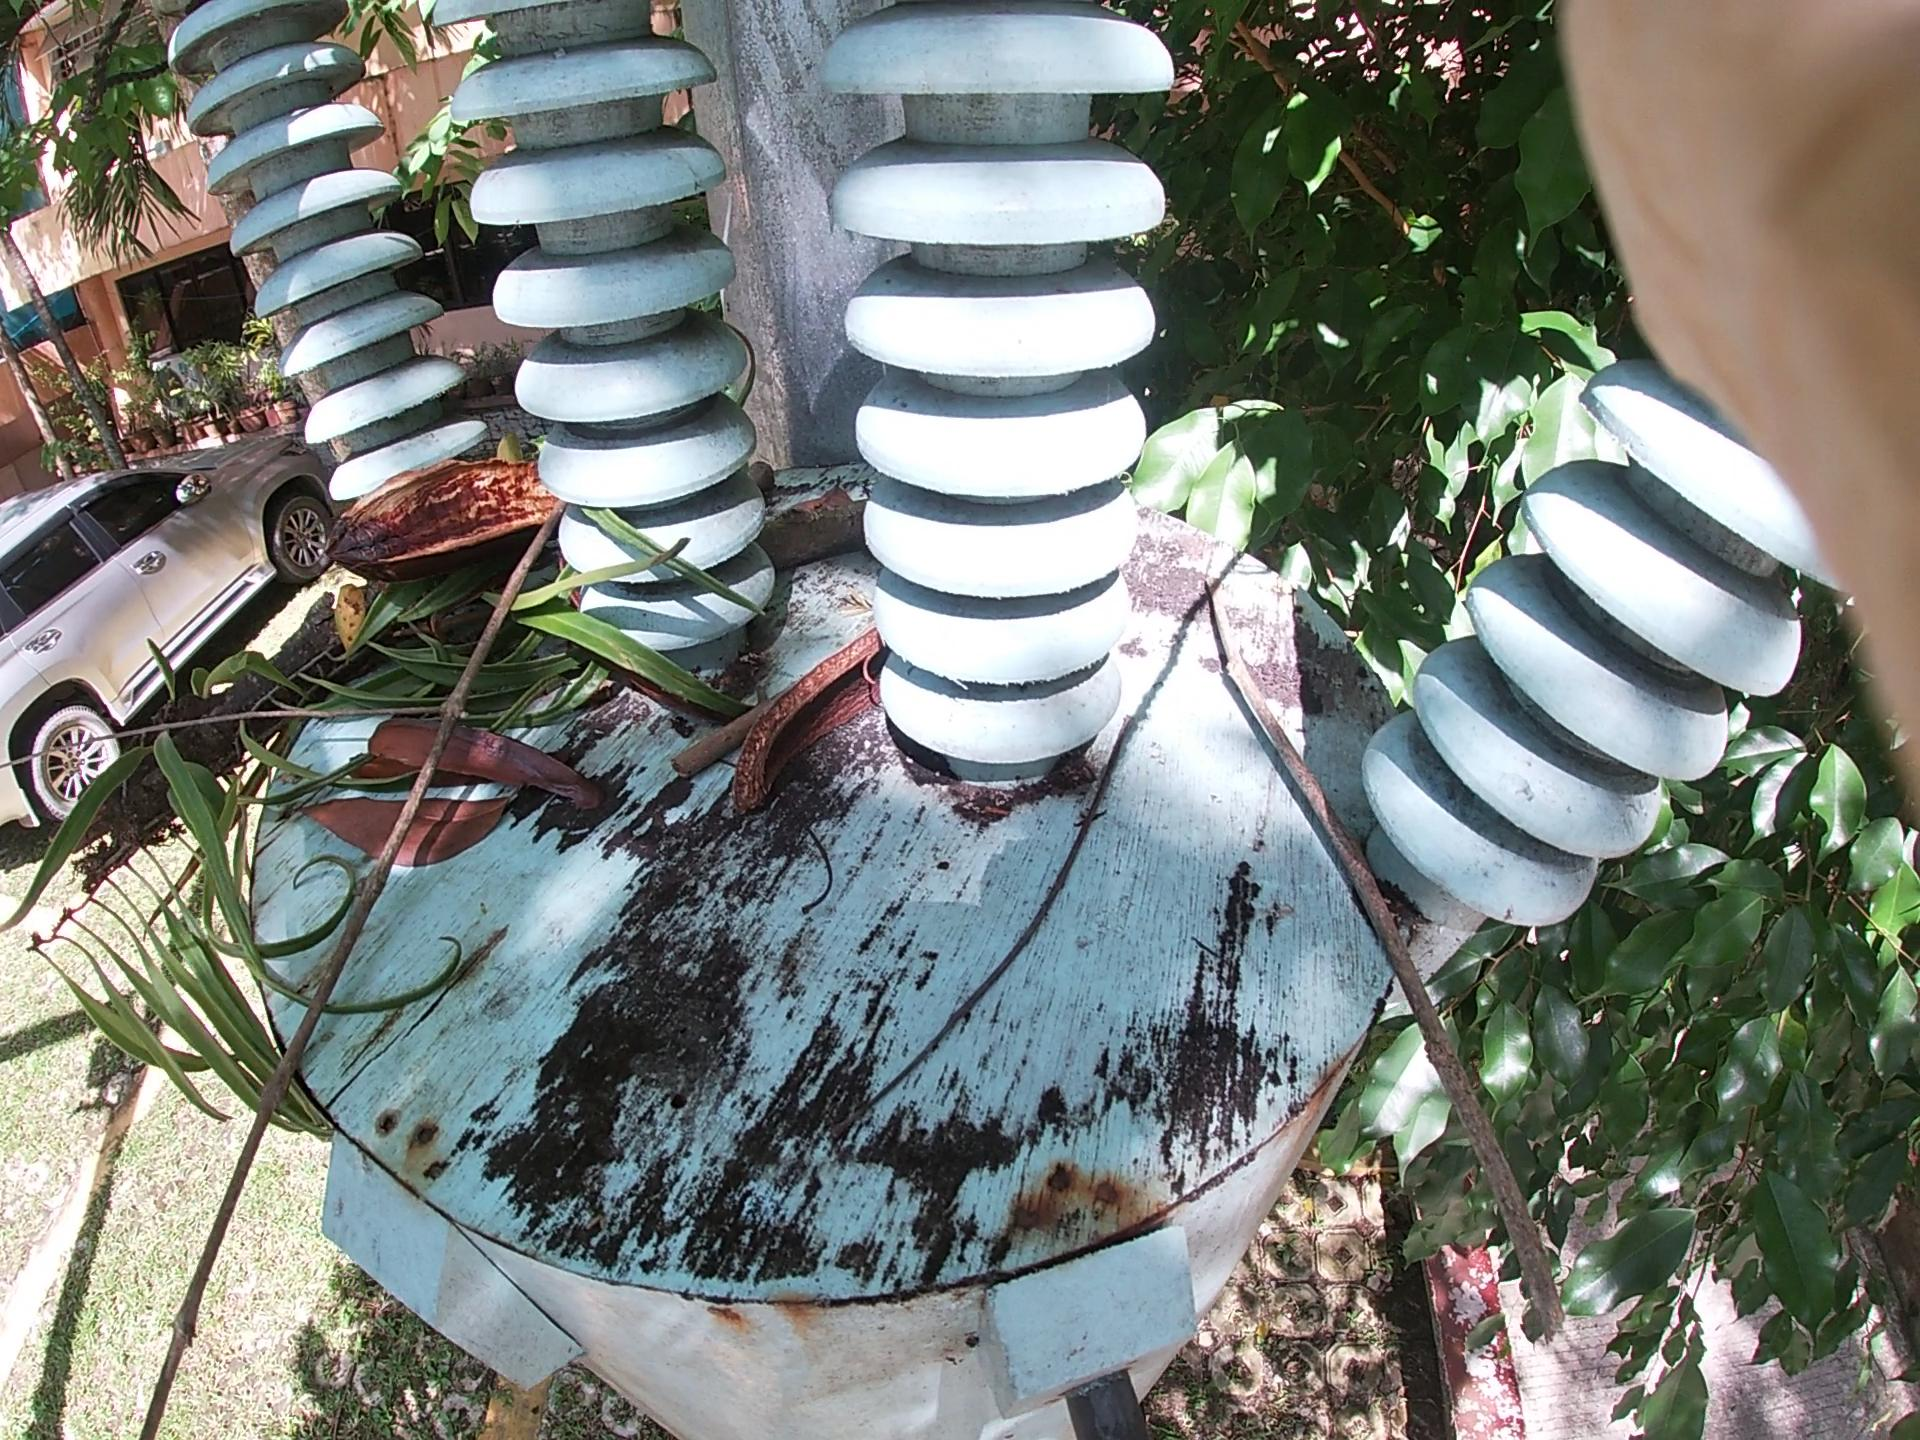branch with leaves: (70, 346, 906, 1186)
leaf: (248, 675, 584, 971)
mahogany fruit: (739, 551, 983, 861), (290, 452, 612, 607)
tree branch: (1039, 446, 1538, 1313), (177, 514, 540, 1398), (698, 399, 1330, 805)
